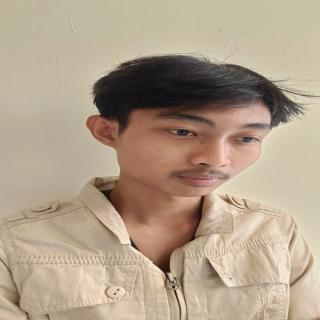Sedih: (107, 88, 281, 200)
